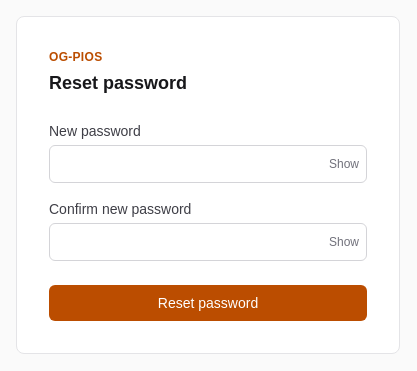
ResetPasswordPage › submits the token and new password, then shows a success state
The width and height of the screenshot is (417, 371).
Type "password123" into the password field labelled "New password" at coordinates (208, 164), box [49,145,367,183]
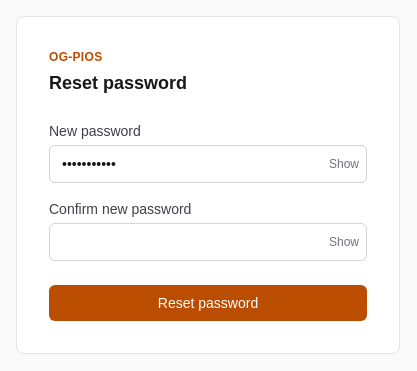
Type "password123" into the password field labelled "Confirm new password" at coordinates (208, 242), box [49,223,367,261]
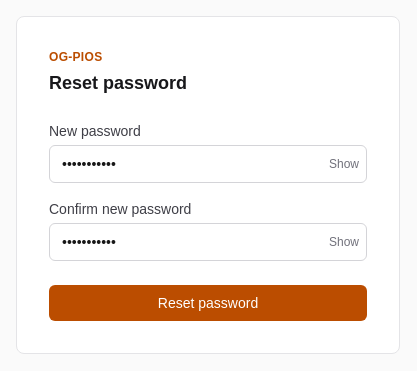
Click the button "Reset password" at coordinates (208, 303), box [49,285,367,321]
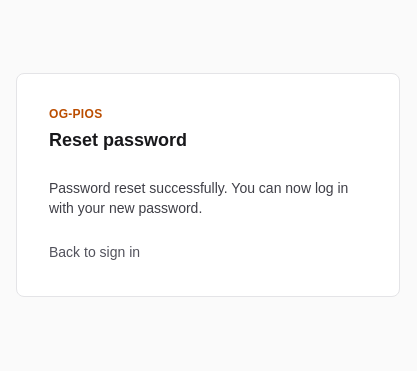
Expected: the text "You can now log in" is shown, [49,180,348,216]
